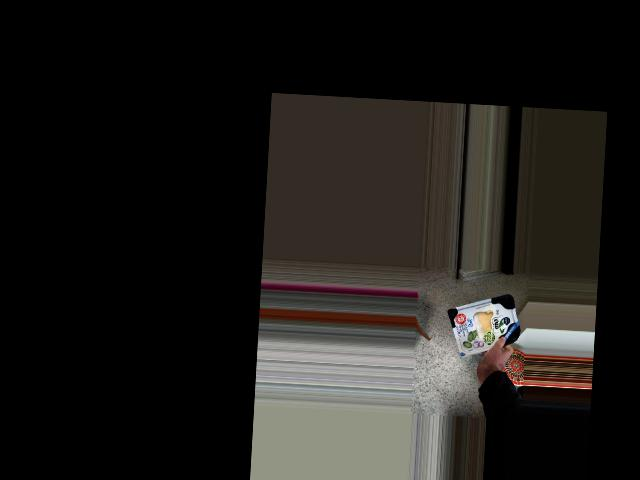cheese: (445, 290, 523, 358)
